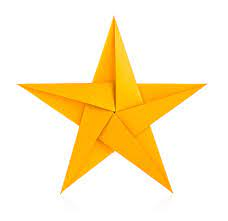star: (13, 14, 209, 198)
